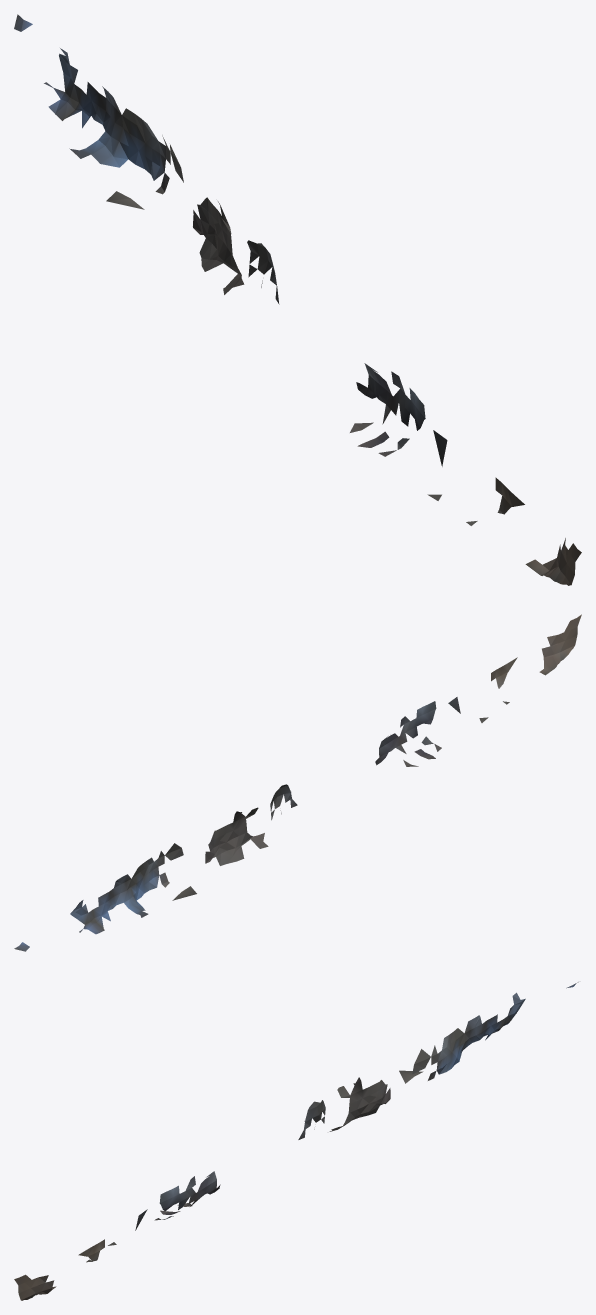
The model's file is coarse.glb.
3 views of the same model, one above another, from view 1: azimuth 30°, elevation 25°; view 2: azimuth 150°, elevation 25°; view 3: azimuth 330°, elevation 25° (orthographic). The views are drawn at different scales.
Bounding box in the file's own units: 0.2004 × 0.0863 × 1.59.
